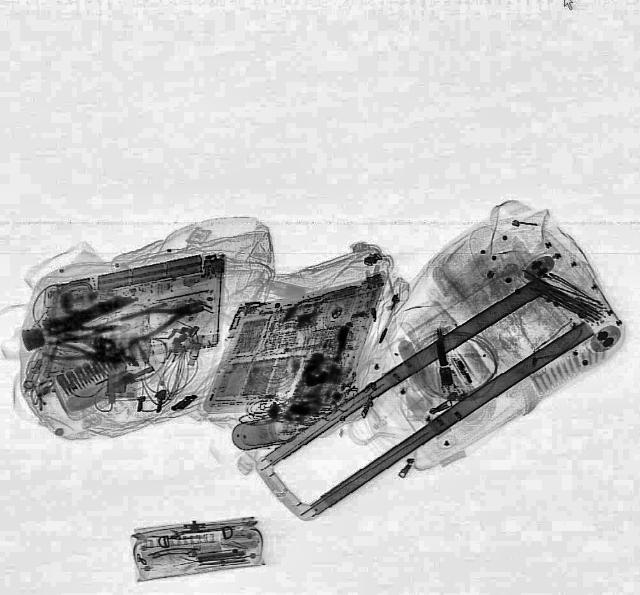Pliers: (116, 289, 208, 345), (40, 338, 109, 366)
